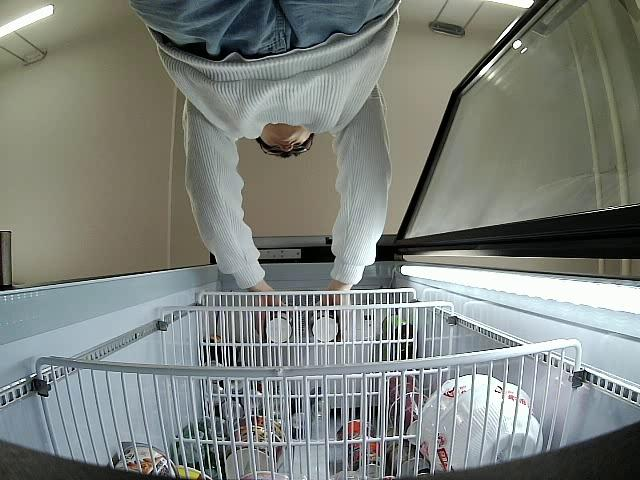00_hand: (313, 287, 350, 321), (254, 292, 283, 334)
08_buldak_S: (306, 308, 341, 344), (266, 309, 294, 344)
